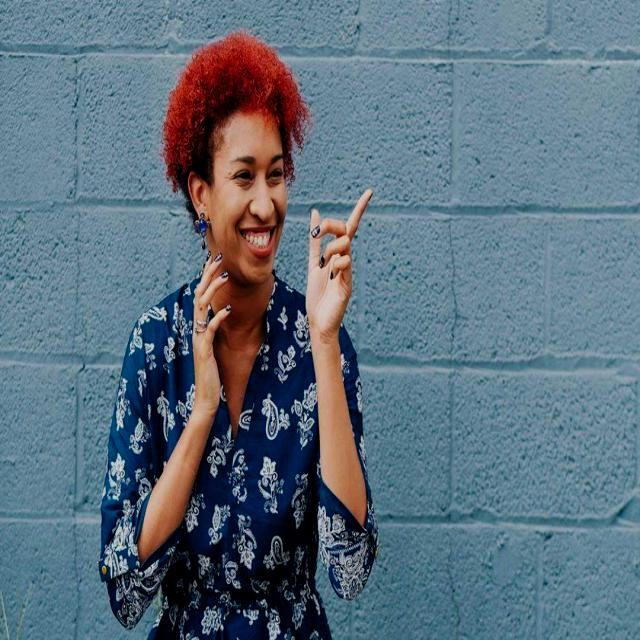no_helmet: (176, 40, 296, 156)
no_mask: (216, 222, 284, 286)
no_vest: (158, 279, 331, 640)
person: (96, 38, 380, 640)
